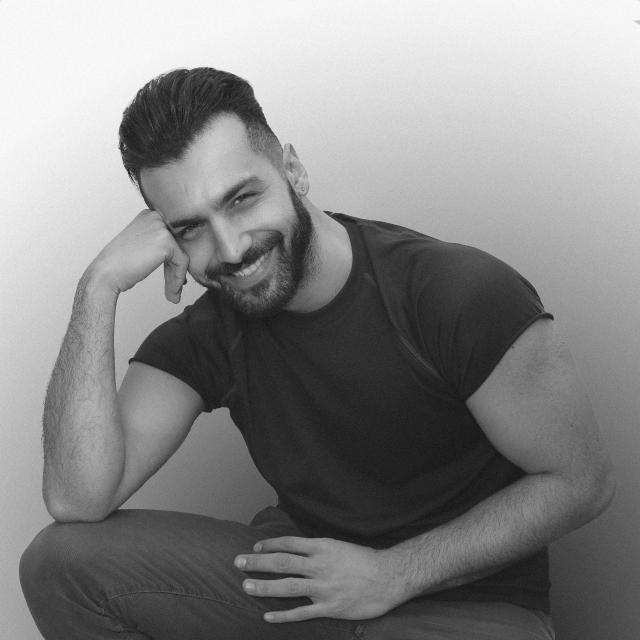human: (21, 56, 619, 640)
